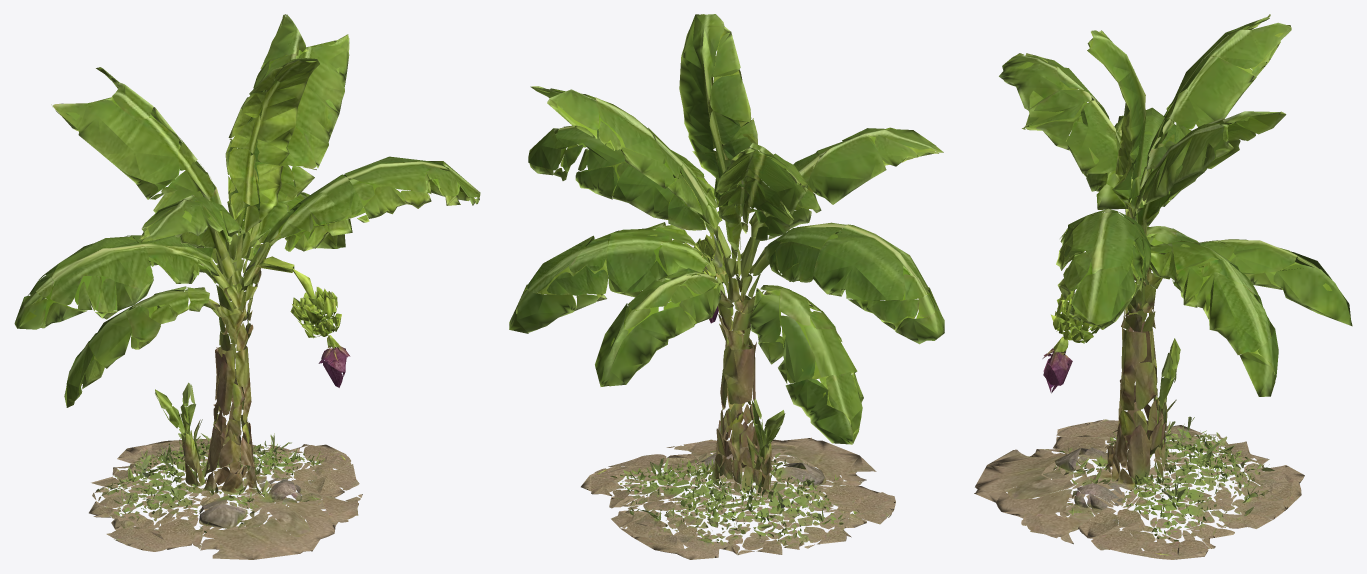
File: fruiting.glb
3 views of the same model, side by side, from view 1: azimuth 30°, elevation 25°; view 2: azimuth 150°, elevation 25°; view 3: azimuth 270°, elevation 25° (orthographic). The views are drawn at different scales.
Visible parts, largest first — view 1: fruiting; view 2: fruiting; view 3: fruiting.
Part boxes in pixels (x1,y1,x2,y2): fruiting: (14,14,480,559); fruiting: (509,14,944,559); fruiting: (974,14,1352,559).
Bounding box in the file's own units: 1.9 × 1.87 × 1.32.
1 material, 1 textured.
